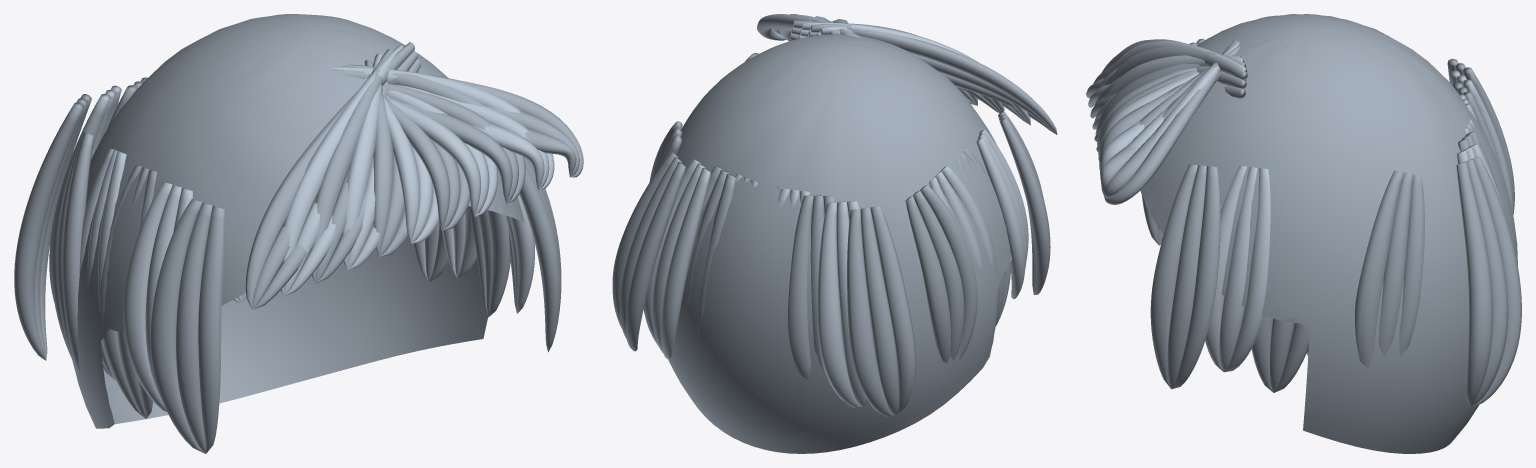
3 renders of one model, left to right at view 1: azimuth 30°, elevation 25°; view 2: azimuth 150°, elevation 25°; view 3: azimuth 270°, elevation 25°, orthographic. The views are drawn at different scales.
Visible parts, largest first — view 1: CrownHair_male_ref02, SideHair_-1_0_Strand2, BackHair_00_Strand0, SideHair_-1_0_Strand1, SideHair_-1_0_Strand0, SideHair_-1_1_Strand2, SideHair_-1_4_Strand0, FrontHair_Sweep_00_Strand2, FrontHair_Sweep_01_Strand2, SideHair_1_0_Strand2, FrontHair_Sweep_02_Strand2, FrontHair_Sweep_03_Strand2 (+42 smaller); view 2: CrownHair_male_ref02, BackHair_00_Strand2, BackHair_01_Strand2, BackHair_00_Strand1, BackHair_00_Strand0, BackHair_07_Strand0, BackHair_02_Strand2, BackHair_08_Strand0, FrontHair_Sweep_00_Strand2, SideHair_-1_4_Strand2, SideHair_-1_0_Strand2, SideHair_-1_4_Strand0 (+20 smaller); view 3: CrownHair_male_ref02, BackHair_08_Strand2, SideHair_1_0_Strand0, SideHair_1_4_Strand2, SideHair_1_0_Strand2, SideHair_1_0_Strand1, SideHair_1_1_Strand0, BackHair_08_Strand0, BackHair_08_Strand1, SideHair_1_1_Strand1, SideHair_1_4_Strand1, SideHair_1_4_Strand0 (+23 smaller).
Part boxes in pixels (box(x1,y1,x2,y2)): CrownHair_male_ref02: box(72, 14, 524, 428); SideHair_-1_0_Strand2: box(150, 199, 205, 453); BackHair_00_Strand0: box(14, 102, 83, 360); SideHair_-1_0_Strand1: box(176, 202, 212, 453); SideHair_-1_0_Strand0: box(198, 205, 224, 453); SideHair_-1_1_Strand2: box(123, 182, 172, 411); SideHair_-1_4_Strand0: box(62, 133, 93, 374); FrontHair_Sweep_00_Strand2: box(245, 42, 414, 309); FrontHair_Sweep_01_Strand2: box(281, 45, 403, 295); SideHair_1_0_Strand2: box(519, 166, 560, 352); FrontHair_Sweep_02_Strand2: box(312, 49, 392, 282); FrontHair_Sweep_03_Strand2: box(343, 53, 382, 269); CrownHair_male_ref02: box(668, 34, 1012, 453); BackHair_00_Strand2: box(847, 209, 894, 416); BackHair_01_Strand2: box(817, 202, 862, 407); BackHair_00_Strand1: box(860, 207, 899, 415); BackHair_00_Strand0: box(870, 206, 915, 414); BackHair_07_Strand0: box(660, 168, 710, 359); BackHair_02_Strand2: box(788, 195, 813, 379); BackHair_08_Strand0: box(625, 162, 685, 351); FrontHair_Sweep_00_Strand2: box(793, 20, 1057, 134); SideHair_-1_4_Strand2: box(905, 196, 950, 363); SideHair_-1_0_Strand2: box(999, 117, 1050, 295); SideHair_-1_4_Strand0: box(919, 185, 977, 359); CrownHair_male_ref02: box(1140, 14, 1517, 453); BackHair_08_Strand2: box(1456, 162, 1492, 406); SideHair_1_0_Strand0: box(1172, 166, 1220, 389); SideHair_1_4_Strand2: box(1355, 170, 1403, 368); SideHair_1_0_Strand2: box(1150, 164, 1197, 388); SideHair_1_0_Strand1: box(1167, 165, 1206, 388); SideHair_1_1_Strand0: box(1224, 168, 1270, 372); BackHair_08_Strand0: box(1470, 156, 1521, 406); BackHair_08_Strand1: box(1463, 159, 1508, 406); SideHair_1_1_Strand1: box(1219, 167, 1257, 371); SideHair_1_4_Strand1: box(1378, 172, 1412, 357); SideHair_1_4_Strand0: box(1399, 174, 1424, 356).
Size of the model in its own units: 0.7249 by 0.7341 by 0.7359.
